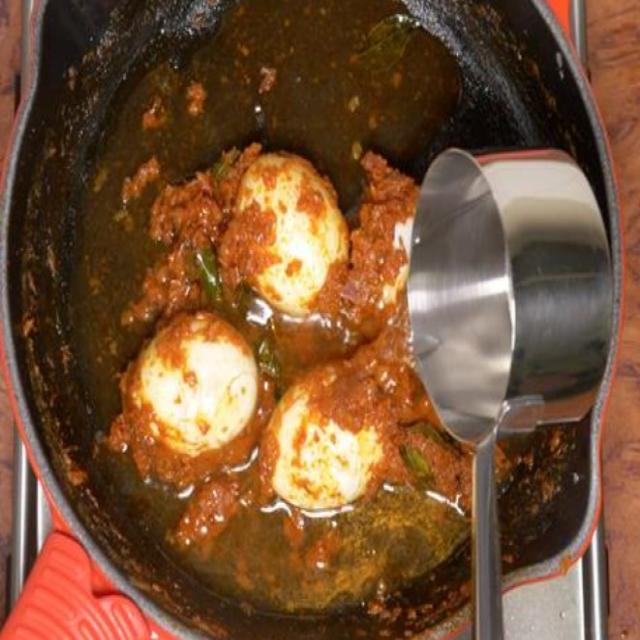EGG: (219, 154, 349, 314), (131, 310, 259, 464), (270, 382, 383, 508)
